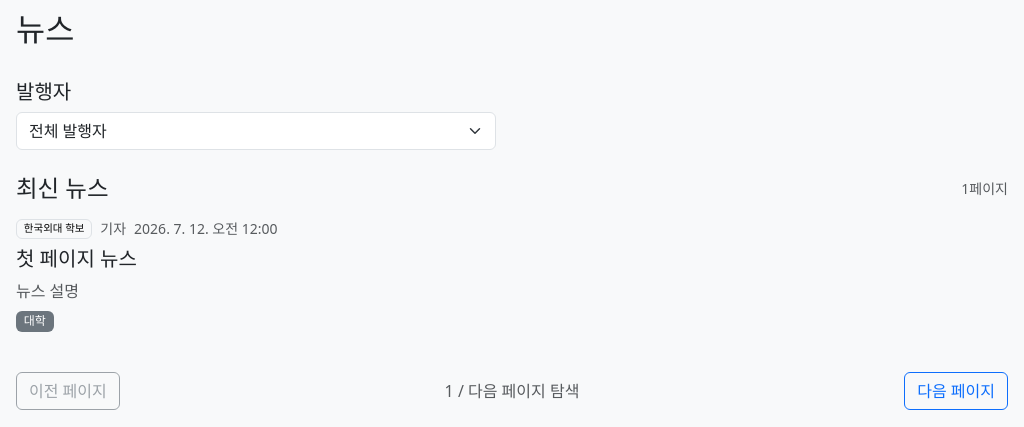
Test: NewsView › next_cursor를 그대로 사용하고 이전 페이지 cursor를 기억한다
Check: the link "첫 페이지 뉴스" is shown, box [16, 244, 190, 272]
Click the button "다음 페이지" at point(956, 390), box [904, 372, 1008, 410]
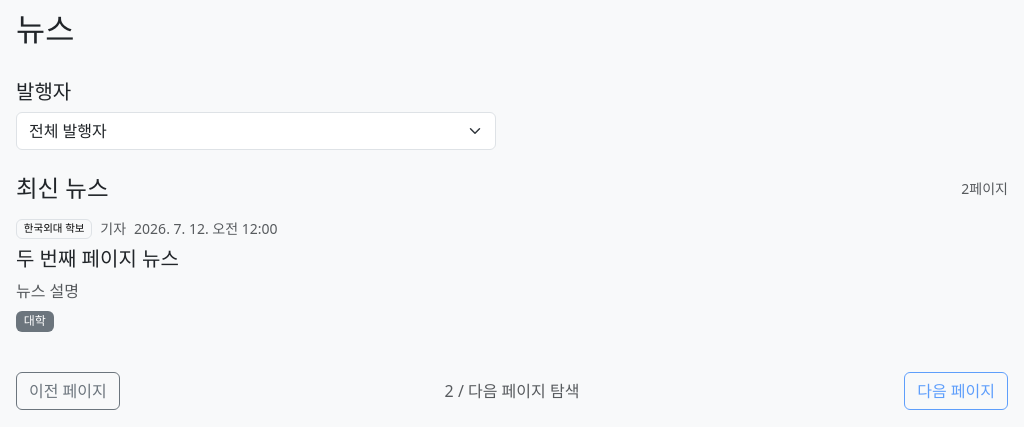
Check: the link "두 번째 페이지 뉴스" is shown, box [16, 244, 232, 272]
Click the button "이전 페이지" at point(68, 390), box [16, 372, 120, 410]
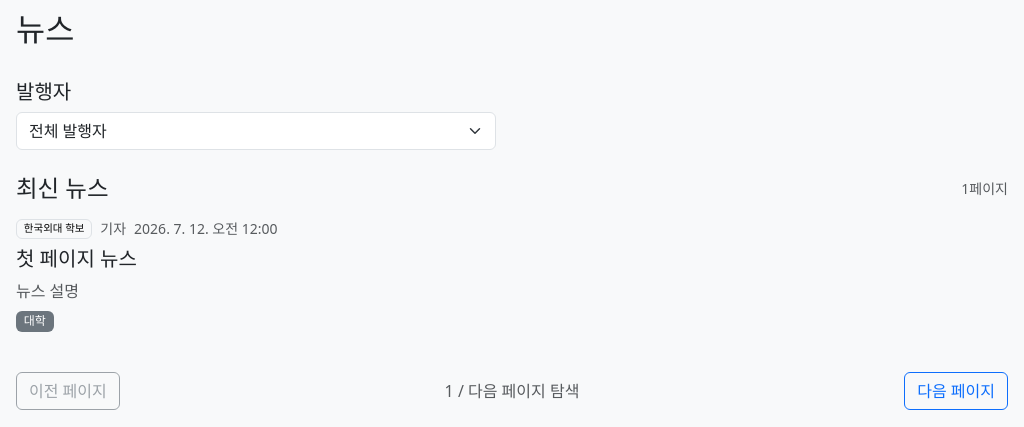
Check: the link "첫 페이지 뉴스" is shown, box [16, 244, 190, 272]
